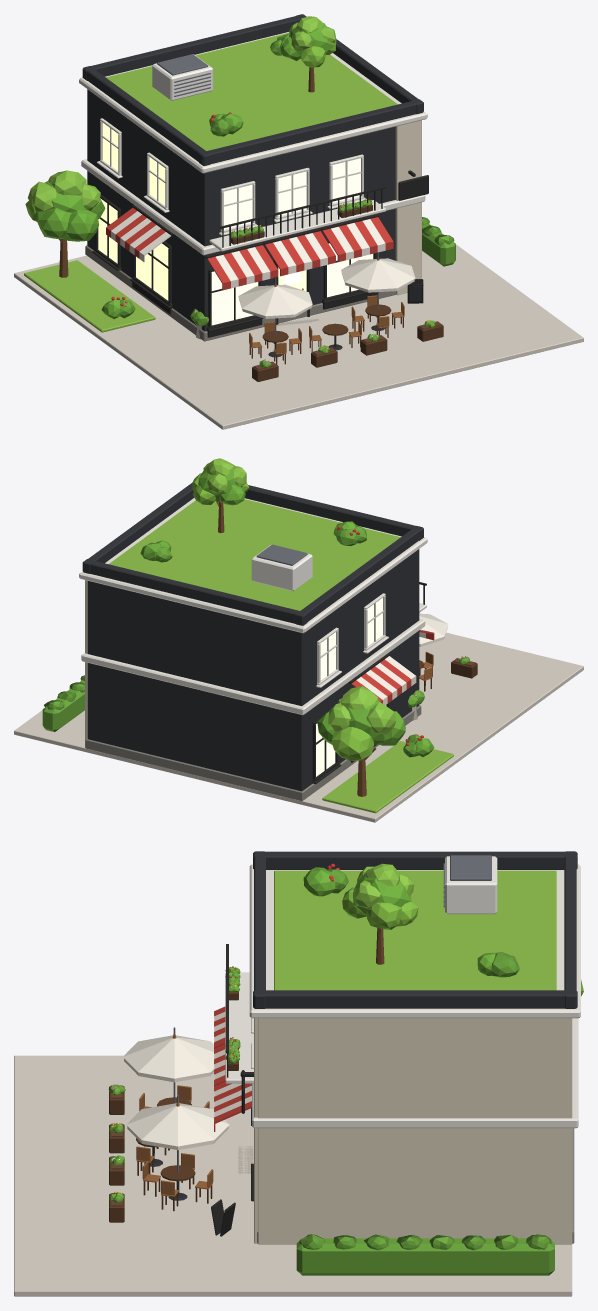
The model's file is lote_cafe.glb.
3 renders of one model, top to bottom at view 1: azimuth 30°, elevation 25°; view 2: azimuth 150°, elevation 25°; view 3: azimuth 270°, elevation 25°, orthographic. The views are drawn at different scales.
Visible parts, largest first — view 1: lote_cafe_00, lote_cafe_02, lote_cafe_05, lote_cafe_04, lote_cafe_14, lote_cafe_15, lote_cafe_16, lote_cafe_27, lote_cafe_09, lote_cafe_17, lote_cafe_03, lote_cafe_22 (+7 smaller); view 2: lote_cafe_02, lote_cafe_05, lote_cafe_00, lote_cafe_04, lote_cafe_01, lote_cafe_09, lote_cafe_11, lote_cafe_12, lote_cafe_06, lote_cafe_14, lote_cafe_10, lote_cafe_17 (+5 smaller); view 3: lote_cafe_03, lote_cafe_00, lote_cafe_05, lote_cafe_02, lote_cafe_04, lote_cafe_12, lote_cafe_27, lote_cafe_22, lote_cafe_09, lote_cafe_06, lote_cafe_10, lote_cafe_26 (+5 smaller).
Boxes of the visible parts, box(x1,y1,x2,y2) form: lote_cafe_00: box(14, 244, 583, 429); lote_cafe_02: box(82, 14, 423, 331); lote_cafe_05: box(24, 32, 397, 332); lote_cafe_04: box(79, 32, 427, 255); lote_cafe_14: box(98, 123, 373, 325); lote_cafe_15: box(92, 170, 428, 337); lote_cafe_16: box(106, 207, 393, 290); lote_cafe_27: box(238, 258, 415, 318); lote_cafe_09: box(36, 22, 430, 365); lote_cafe_17: box(111, 211, 385, 288); lote_cafe_03: box(395, 120, 421, 295); lote_cafe_22: box(231, 204, 443, 381); lote_cafe_02: box(82, 482, 423, 791); lote_cafe_05: box(109, 499, 453, 813); lote_cafe_00: box(14, 632, 583, 822); lote_cafe_04: box(79, 498, 427, 715); lote_cafe_01: box(85, 705, 421, 801); lote_cafe_09: box(156, 461, 462, 756); lote_cafe_11: box(203, 458, 396, 734); lote_cafe_12: box(42, 526, 469, 757); lote_cafe_06: box(251, 544, 312, 591); lote_cafe_14: box(316, 598, 386, 776); lote_cafe_10: box(192, 473, 373, 760); lote_cafe_17: box(356, 629, 425, 705); lote_cafe_03: box(254, 1018, 572, 1244); lote_cafe_00: box(14, 1055, 572, 1296); lote_cafe_05: box(274, 870, 556, 990); lote_cafe_02: box(253, 851, 577, 1008); lote_cafe_04: box(225, 864, 580, 1128); lote_cafe_12: box(108, 867, 554, 1275); lote_cafe_27: box(123, 1035, 229, 1149); lote_cafe_22: box(109, 991, 238, 1222); lote_cafe_09: box(112, 868, 496, 1198); lote_cafe_06: box(111, 856, 497, 1160); lote_cafe_10: box(342, 887, 583, 996); lote_cafe_26: box(136, 1034, 213, 1196).
Bounding box in the file's own units: 16.03 × 10.79 × 16.34.
